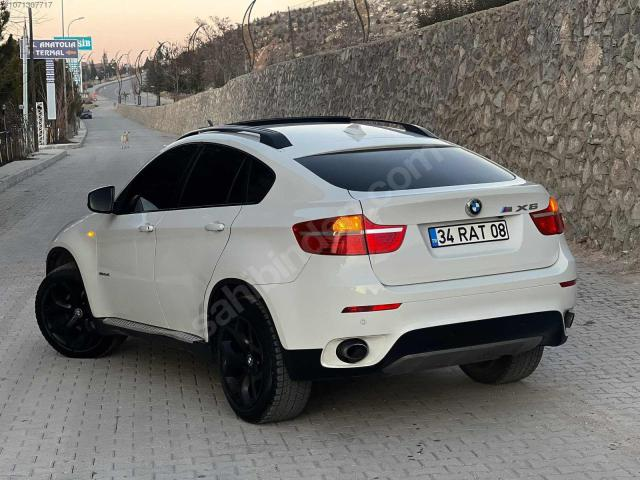plaka: (429, 220, 509, 248)
